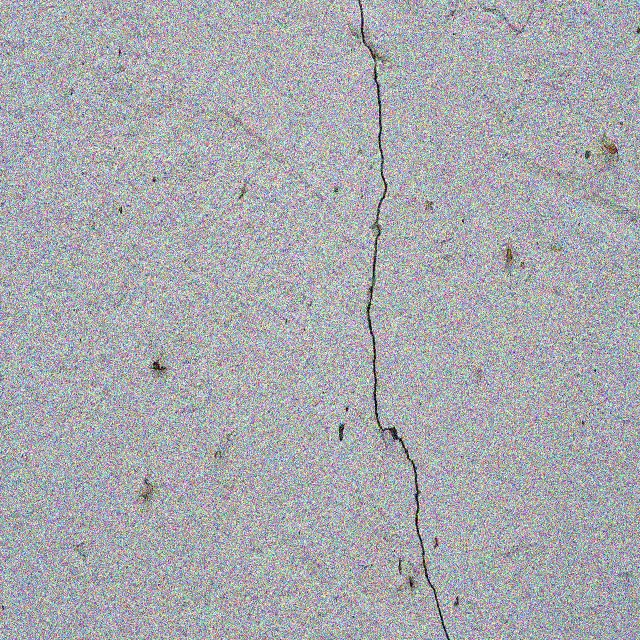SurfaceCrack: (315, 1, 469, 640)
